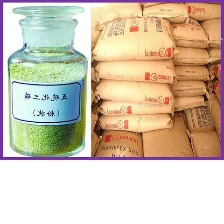insecticide: (6, 3, 87, 160)
